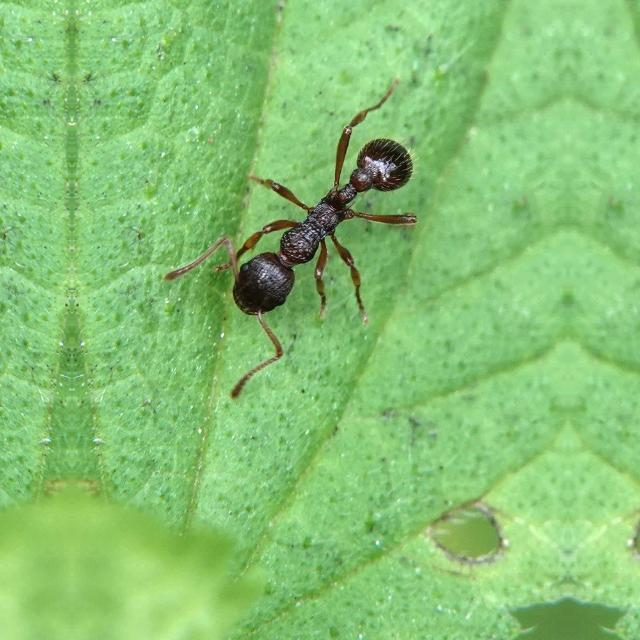Myrmica: (194, 106, 423, 354)
